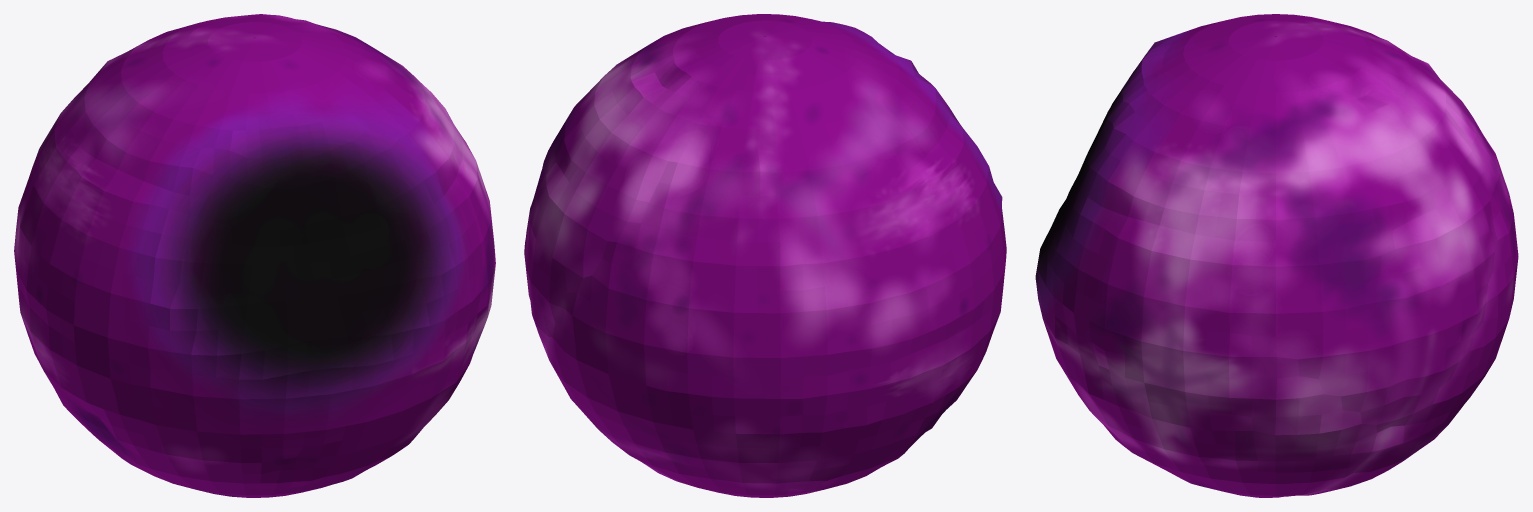
The model's file is MoonPlanet.glb.
3 views of the same model, side by side, from view 1: azimuth 30°, elevation 25°; view 2: azimuth 150°, elevation 25°; view 3: azimuth 270°, elevation 25° (orthographic).
Visible parts, largest first — view 1: Sphere; view 2: Sphere; view 3: Sphere.
Part boxes in pixels (x1=…): Sphere: x1=14, y1=14, x2=495, y2=497; Sphere: x1=524, y1=14, x2=1006, y2=497; Sphere: x1=1035, y1=14, x2=1518, y2=497.
Size of the model in its own units: 13.83 by 13.88 by 13.83.
Materials: 1 (1 with a texture image).
